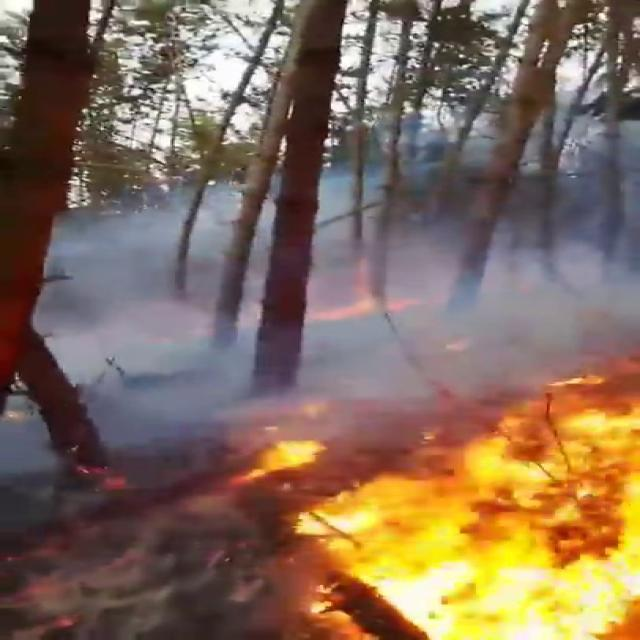Fire: (229, 362, 639, 640)
Smoke: (30, 116, 640, 428)
